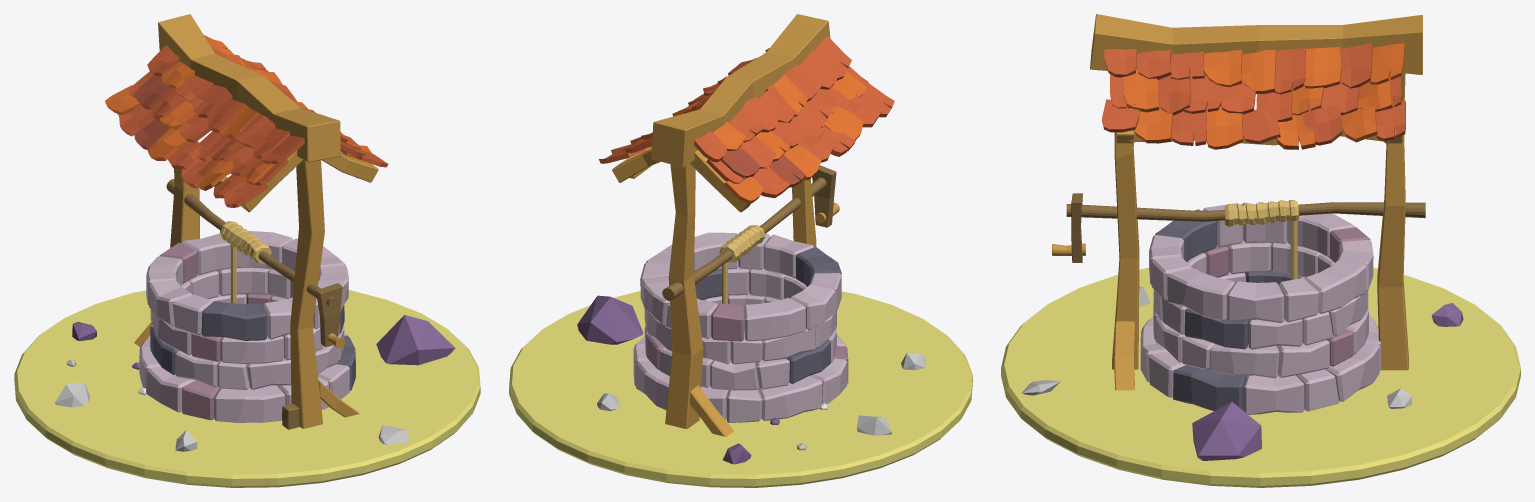
File: well.fbx
3 views of the same model, side by side, from view 1: azimuth 30°, elevation 25°; view 2: azimuth 150°, elevation 25°; view 3: azimuth 270°, elevation 25° (orthographic). The views are drawn at different scales.
Visible parts, largest first — view 1: ground, Plane.002, Cube.003, Cube.007, Cube, Cube.004, Cube.002, Cube.001, Icosphere.003, Plane.001, Cube.005, Cylinder.002 (+6 smaller); view 2: ground, Plane.002, Cube.003, Cube.007, Cube.005, Cube, Cube.002, Cube.001, Icosphere.003, Cylinder.002, Plane.001, Cube.004 (+6 smaller); view 3: ground, Plane.001, Cube.003, Cube, Cube.007, Cube.002, Cube.001, Cube.005, Cube.004, Icosphere.003, Cylinder.002, Cylinder (+3 smaller).
Part boxes in pixels (x1,y1,x2,y2): ground: (14, 290, 480, 487); Plane.002: (105, 45, 304, 207); Cube.003: (146, 231, 348, 340); Cube.007: (158, 14, 340, 162); Cube: (139, 333, 355, 422); Cube.004: (290, 160, 324, 428); Cube.002: (150, 267, 344, 363); Cube.001: (150, 293, 344, 389); Icosphere.003: (376, 315, 455, 365); Plane.001: (204, 35, 388, 167); Cube.005: (170, 168, 199, 247); Cylinder.002: (166, 179, 338, 308); ground: (509, 291, 972, 487); Plane.002: (694, 35, 894, 203); Cube.003: (640, 232, 841, 341); Cube.007: (651, 14, 830, 167); Cube.005: (665, 163, 703, 428); Cube: (633, 321, 848, 422); Cube.002: (644, 260, 836, 364); Cube.001: (644, 291, 836, 390); Icosphere.003: (577, 295, 643, 344); Cylinder.002: (662, 177, 826, 300); Plane.001: (599, 48, 769, 163); Cube.004: (792, 179, 816, 247); ground: (1001, 267, 1520, 487); Plane.001: (1102, 43, 1405, 149); Cube.003: (1149, 202, 1373, 322); Cube: (1140, 315, 1380, 414); Cube.007: (1090, 14, 1422, 74); Cube.002: (1153, 240, 1368, 349); Cube.001: (1153, 269, 1368, 378); Cube.005: (1377, 73, 1408, 370); Cube.004: (1112, 132, 1139, 369); Icosphere.003: (1192, 402, 1261, 460); Cylinder.002: (1066, 202, 1425, 221); Cylinder: (1224, 200, 1298, 226).
Bounding box in the file's own units: 2985 × 2383 × 2985.
